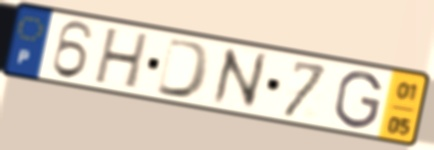6: (49, 18, 96, 81)
7: (281, 59, 331, 120)
D: (153, 35, 214, 102)
G: (332, 69, 385, 131)
H: (90, 26, 153, 93)
N: (210, 45, 270, 111)
